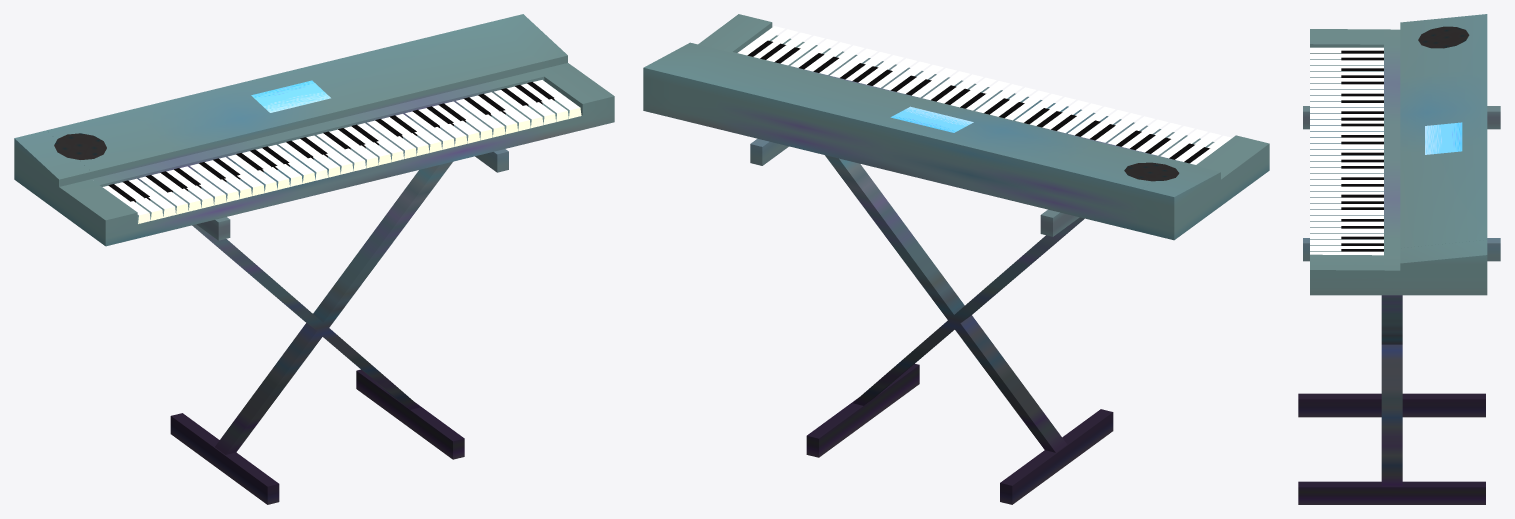
Rendered from 8ee0cc3d-4d19-4d9e-bcd4-77ac8b96f667.glb.
3 renders of one model, left to right at view 1: azimuth 30°, elevation 25°; view 2: azimuth 150°, elevation 25°; view 3: azimuth 270°, elevation 25°, orthographic. The views are drawn at different scales.
Visible parts, largest first — view 1: EletricKeyboard; view 2: EletricKeyboard; view 3: EletricKeyboard.
Part boxes in pixels (left/top/right/bottom): EletricKeyboard: left=14, top=14, right=614, bottom=504; EletricKeyboard: left=643, top=14, right=1269, bottom=504; EletricKeyboard: left=1298, top=14, right=1500, bottom=504.
Size of what is drawn, in the model's own units: 1.3 by 0.8113 by 0.4595.
Materials: 1 (1 with a texture image).
